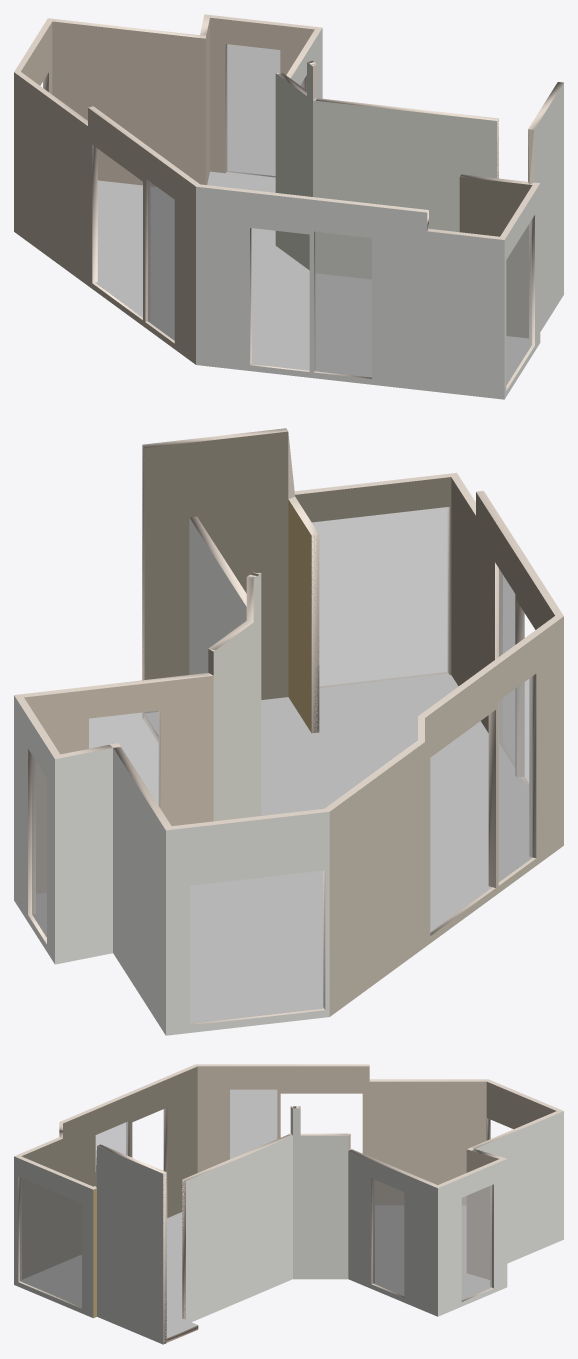
3 views of the same model, one above another, from view 1: azimuth 30°, elevation 25°; view 2: azimuth 150°, elevation 25°; view 3: azimuth 270°, elevation 25° (orthographic). The views are drawn at different scales.
Parts seen in each view (by area): view 1: wall_1, floor_Other_1, wall_9, wall_23, wall_33, door_2, door_7, door_3, door_8, wall_12, wall_4, wall_17 (+15 smaller); view 2: floor_Other_1, wall_9, wall_37, door_1, door_5, wall_7, wall_15, wall_6, wall_10, wall_13, wall_17, door_10 (+22 smaller); view 3: wall_31, wall_5, wall_13, wall_12, wall_2, wall_39, wall_10, floor_Other_1, door_1, door_5, wall_8, wall_3 (+19 smaller).
Part boxes in pixels (<box>): wall_1: <box>196,186,504,399</box>; floor_Other_1: <box>95,171,531,385</box>; wall_9: <box>14,72,195,364</box>; wall_23: <box>313,100,497,279</box>; wall_33: <box>52,21,205,186</box>; door_2: <box>315,232,371,377</box>; door_7: <box>315,232,371,377</box>; door_3: <box>226,44,279,177</box>; door_8: <box>226,44,279,176</box>; wall_12: <box>534,83,563,331</box>; wall_4: <box>459,177,529,338</box>; wall_17: <box>275,62,312,270</box>; floor_Other_1: <box>32,673,531,1023</box>; wall_9: <box>329,616,563,1016</box>; wall_37: <box>144,431,288,712</box>; door_1: <box>312,507,448,687</box>; door_5: <box>312,507,448,687</box>; wall_7: <box>166,811,329,1035</box>; wall_15: <box>24,675,213,893</box>; wall_6: <box>55,748,112,964</box>; wall_10: <box>113,748,165,1035</box>; wall_13: <box>451,477,554,776</box>; wall_17: <box>213,573,261,821</box>; door_10: <box>499,677,532,881</box>; wall_31: <box>197,1066,486,1204</box>; wall_5: <box>186,1136,292,1322</box>; wall_13: <box>21,1066,197,1279</box>; wall_12: <box>97,1146,163,1344</box>; wall_2: <box>293,1108,348,1279</box>; wall_39: <box>348,1151,437,1316</box>; wall_10: <box>475,1111,563,1263</box>; floor_Other_1: <box>21,1205,491,1338</box>; door_1: <box>20,1177,81,1306</box>; door_5: <box>20,1178,81,1306</box>; wall_8: <box>438,1159,507,1316</box>; wall_3: <box>14,1156,93,1317</box>.
Bounding box in the file's own units: 6.34 × 3.69 × 10.77.
